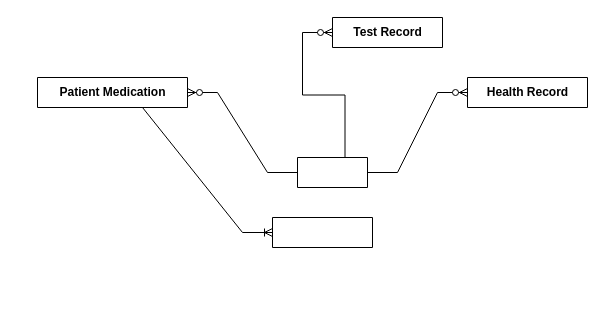
This 605x310 diagram has some shape labels left out. Here are the shapes that lost their labels. From the top down, the centre of each, then its label:
point (332, 172): User
point (322, 232): Medication
